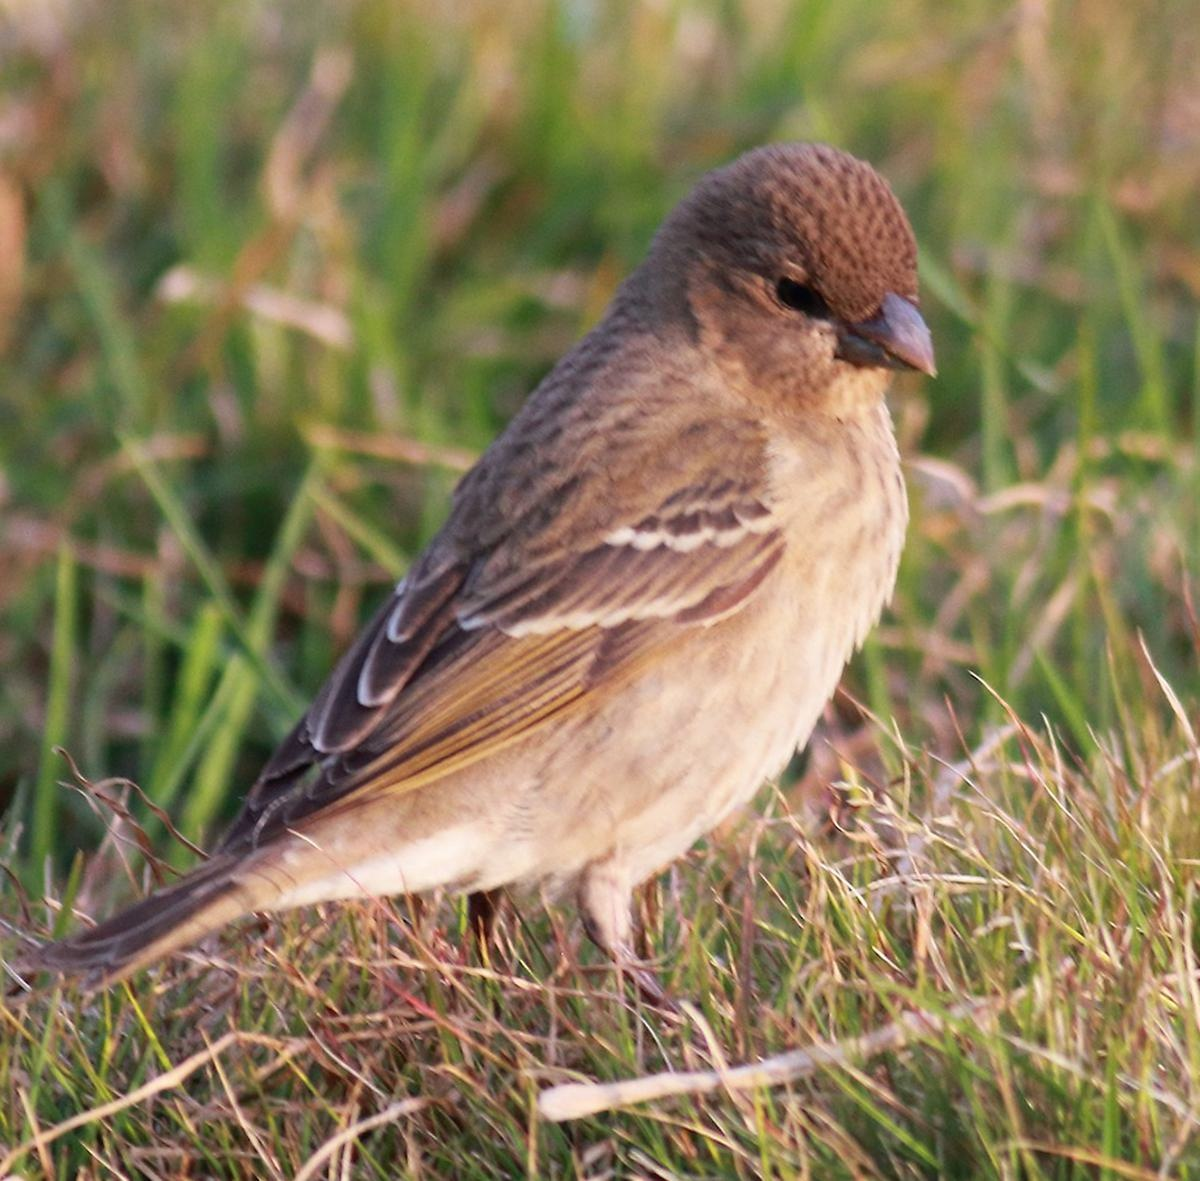rosefinch: (168, 154, 964, 948)
